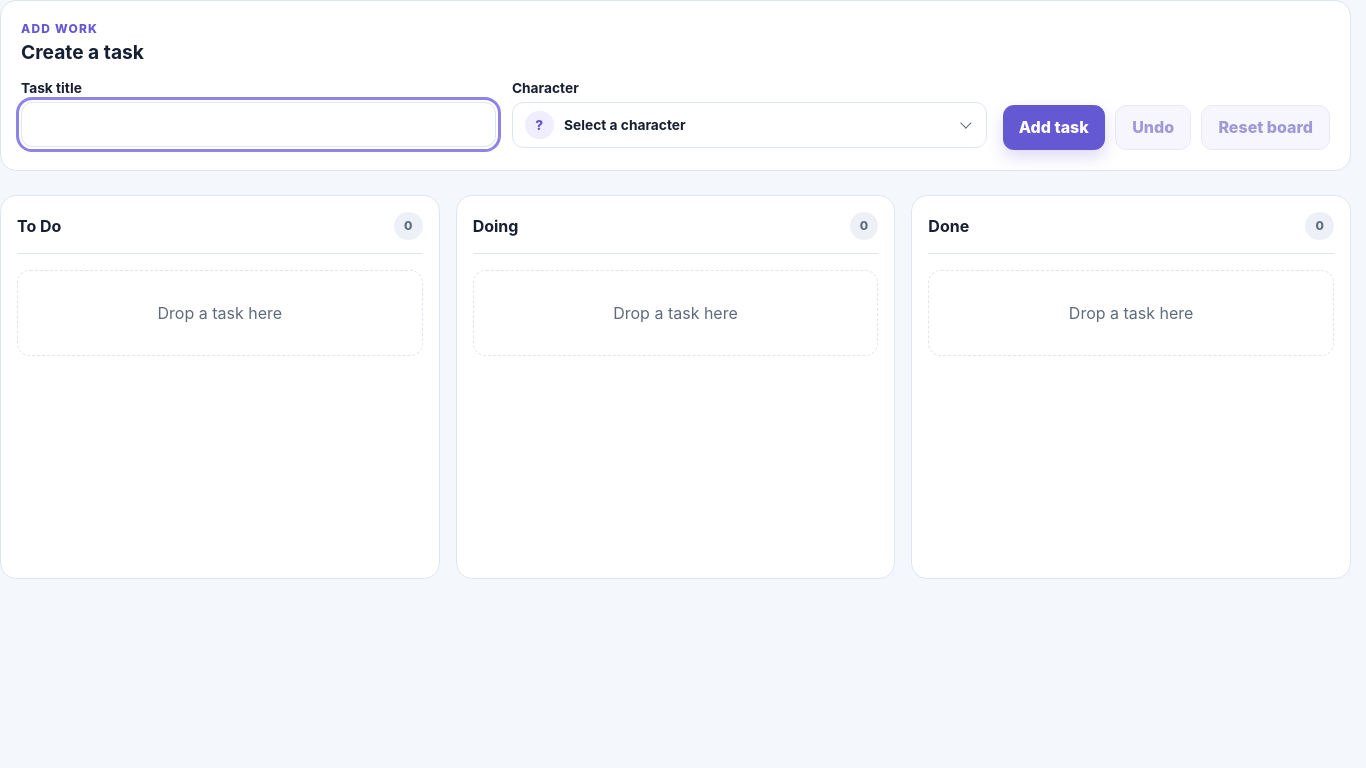
Test: KanbanBoard drag and drop › records a completed drag as one undoable action
The width and height of the screenshot is (1366, 768).
Type keys "Task one"
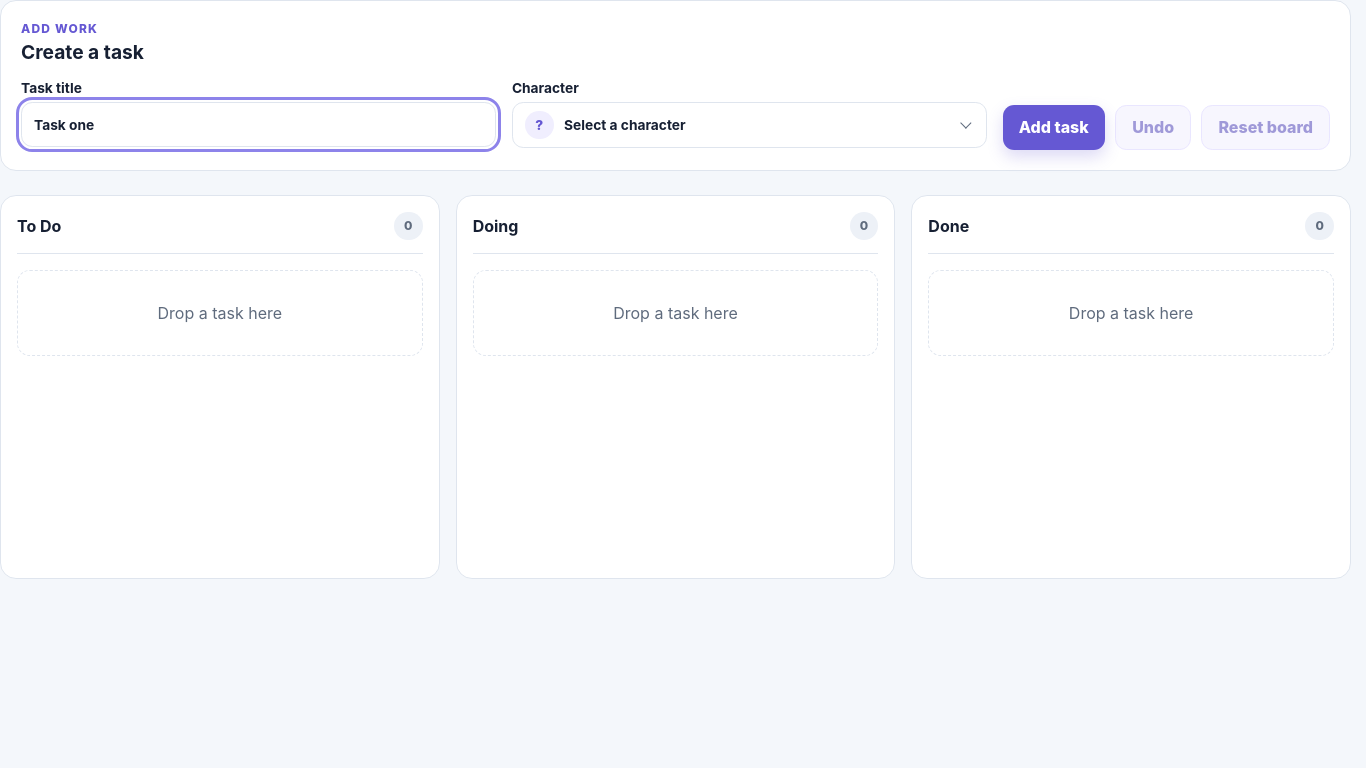
Click the dropdown labelled "character": [625, 125] box [512,102,987,148]
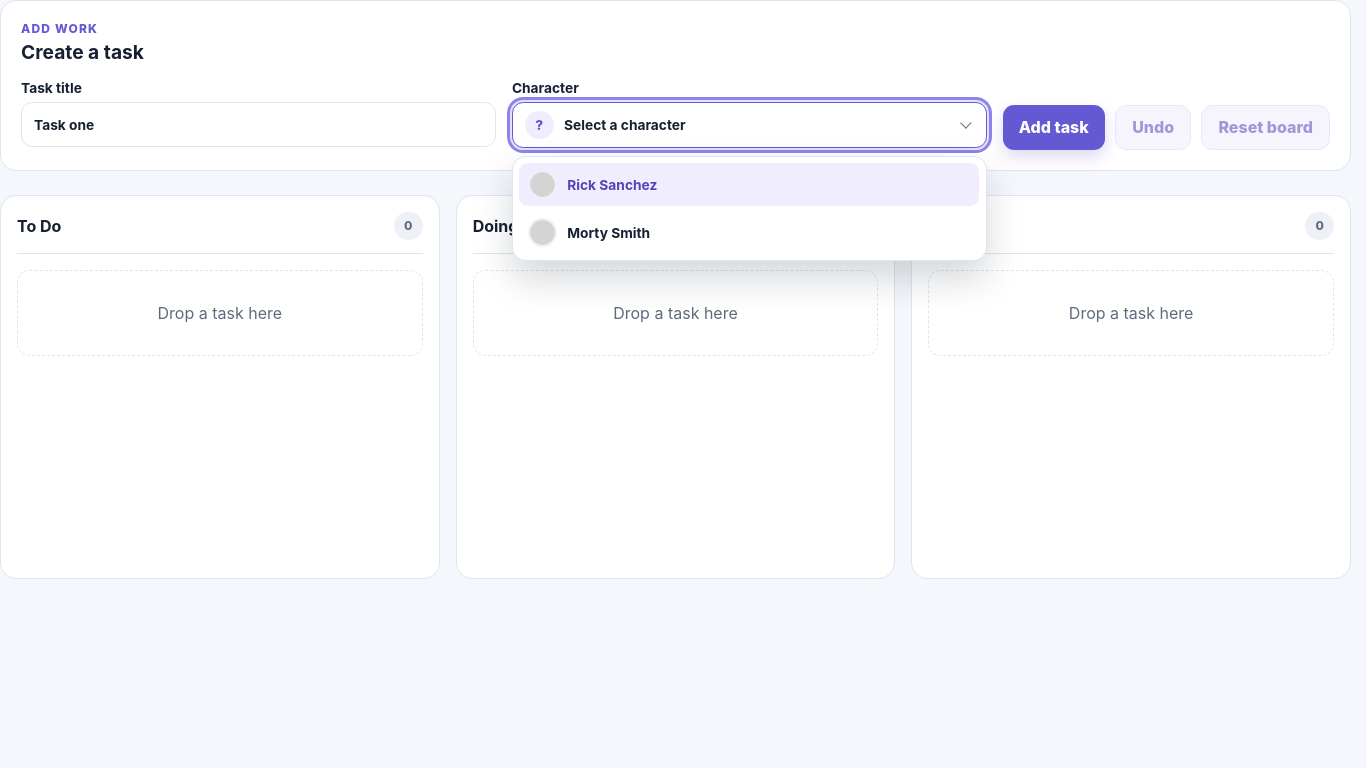
Click the option "Rick Sanchez": [612, 185] box [519,163,979,206]
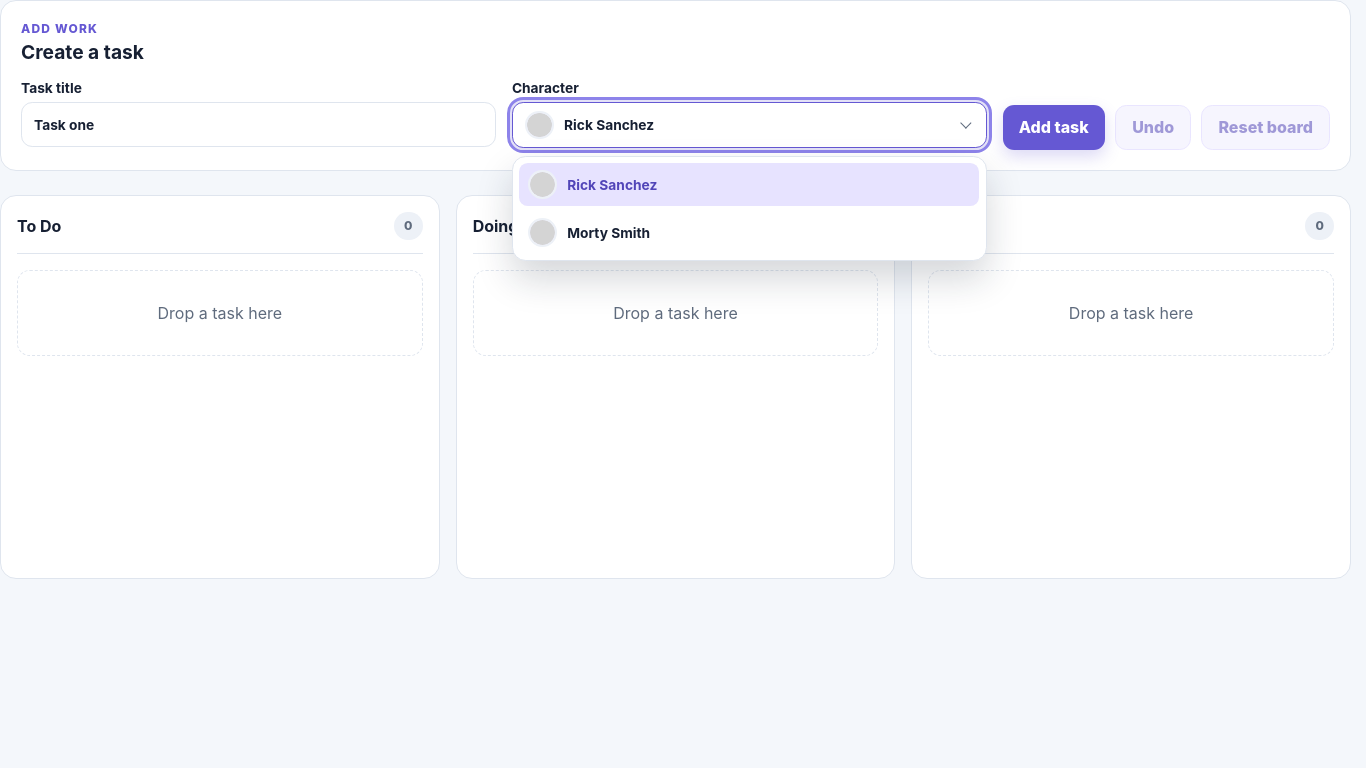
Click the button "Add task": [1054, 127] box [1003,105,1105,150]
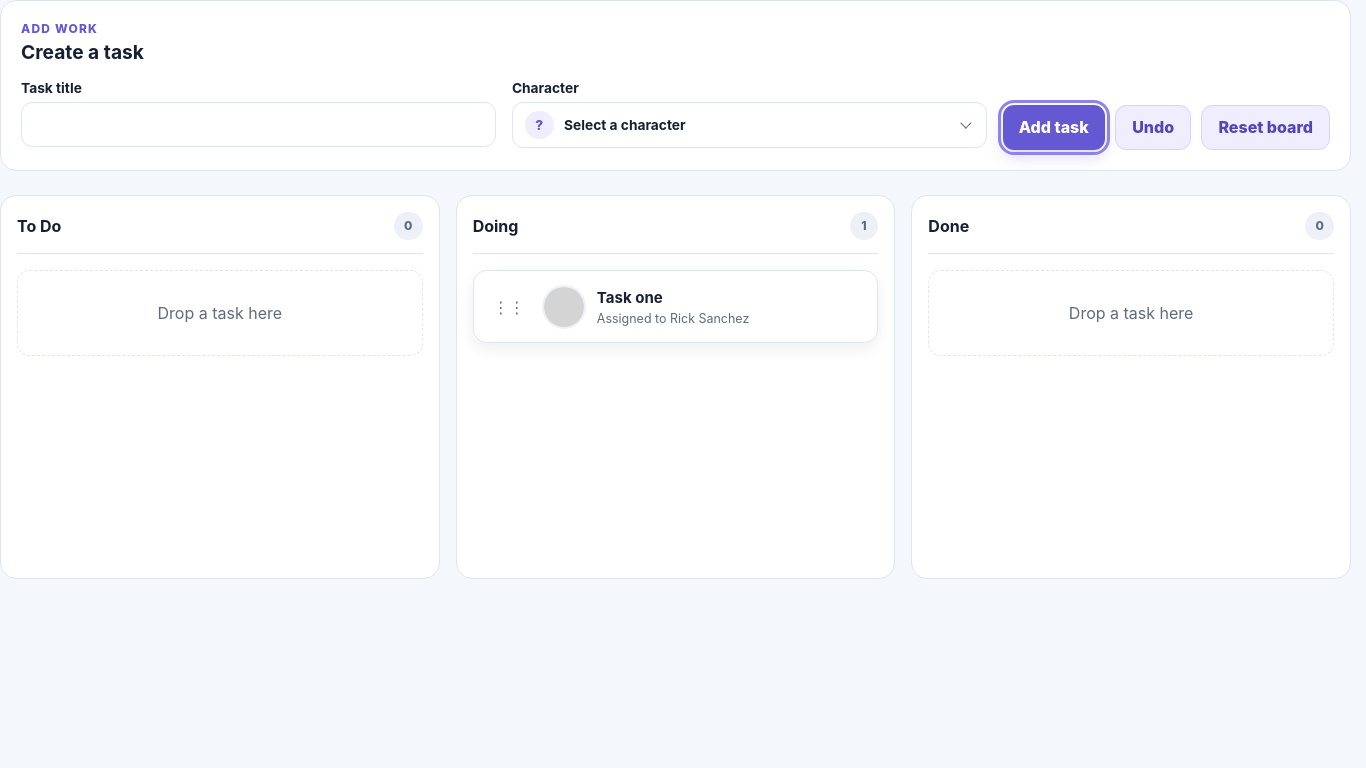
Click the button "Undo": [1153, 127] box [1115,105,1191,150]
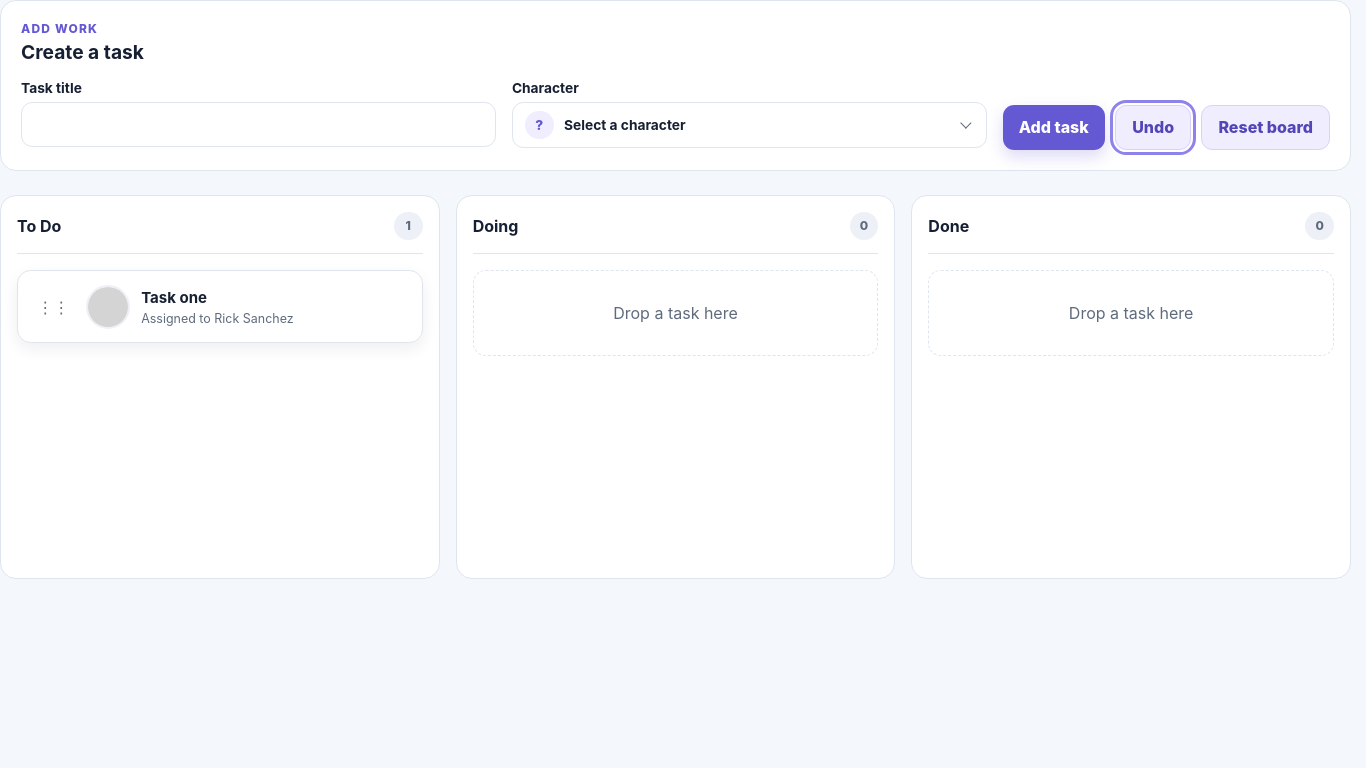
Click the button "Undo": [1153, 127] box [1115,105,1191,150]
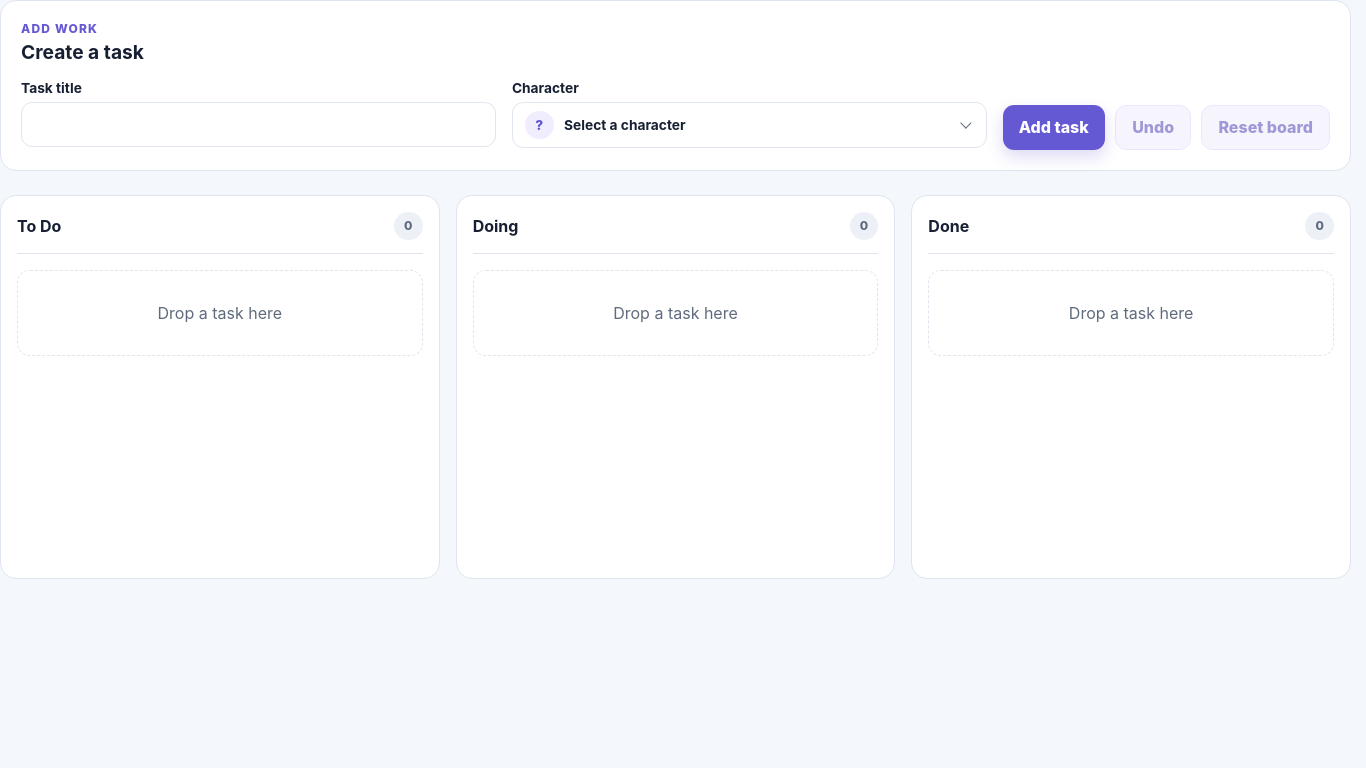
expect the heading "Task one" is gone: met
